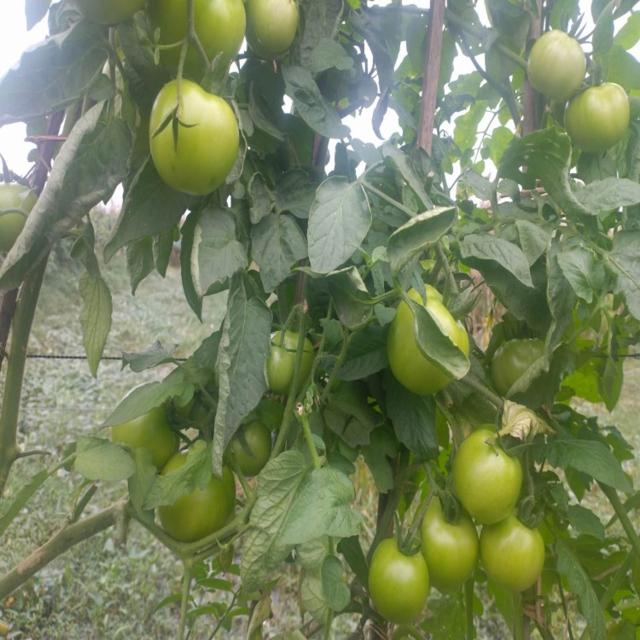tomato: (146, 78, 243, 190), (459, 429, 525, 524), (368, 541, 435, 617), (423, 506, 482, 585), (391, 324, 450, 400), (485, 518, 544, 593), (527, 34, 590, 101), (568, 83, 630, 151), (172, 477, 237, 541), (199, 4, 246, 75), (243, 3, 302, 52), (493, 337, 542, 389), (123, 417, 178, 461), (155, 4, 189, 70), (267, 334, 298, 392), (229, 424, 266, 471)
